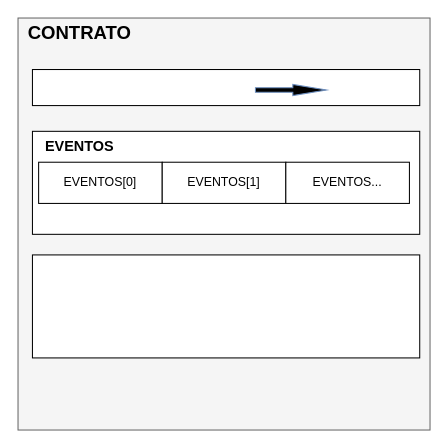
Some shapes in this 448 by 448 pixel diagram are drawn without their labels. The box of each missing label's shape, as (x1, y1, x2, y2) in pixels:
FUNÇÕES DIVERSAS (SAQUES,DEPOSITOS,APOSTAS ...): (31, 254, 420, 358)
Mapeamento: ENDEREÇO SALDO: (31, 68, 420, 106)
